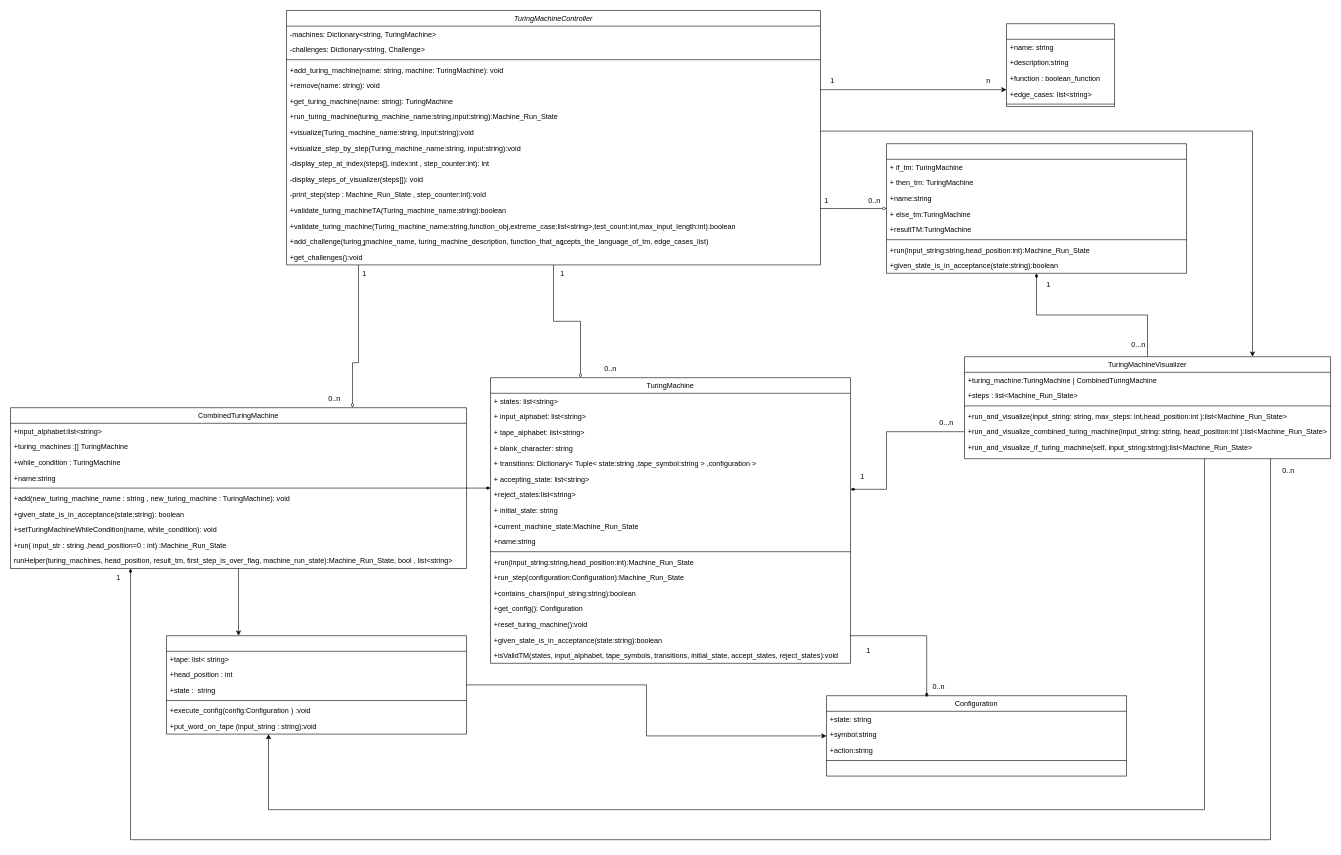
The diagram is 1341 pixels wide and 855 high, and some of its shapes have lost their labels. Each missing label, with the box of its shape:
Challenge: (1006, 23, 1114, 106)
IfTuringMachine: (886, 143, 1186, 273)
Machine_Run_State: (166, 635, 466, 734)
